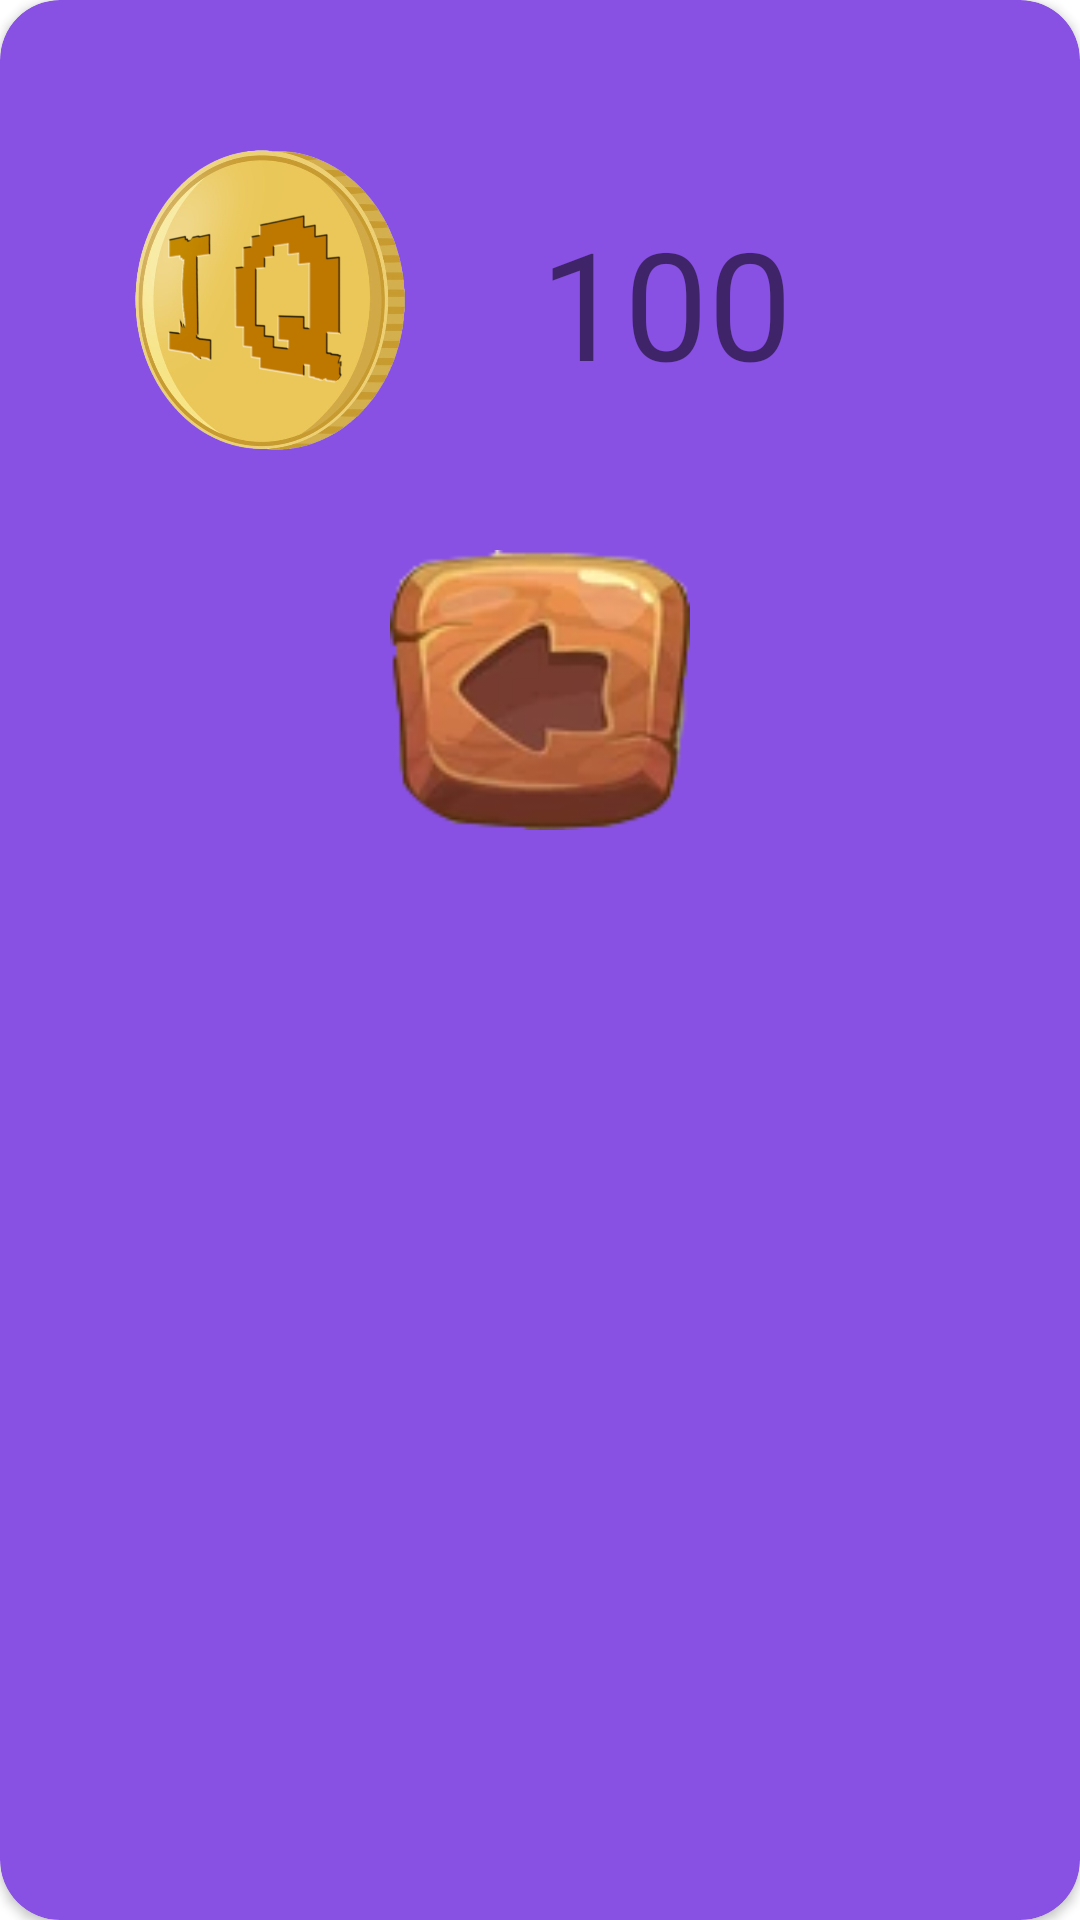

Icons on this 1080 x 1920 Android screen, each with the point to tap as (x,y):
back: (540,690)
iq coin: (270,300)
